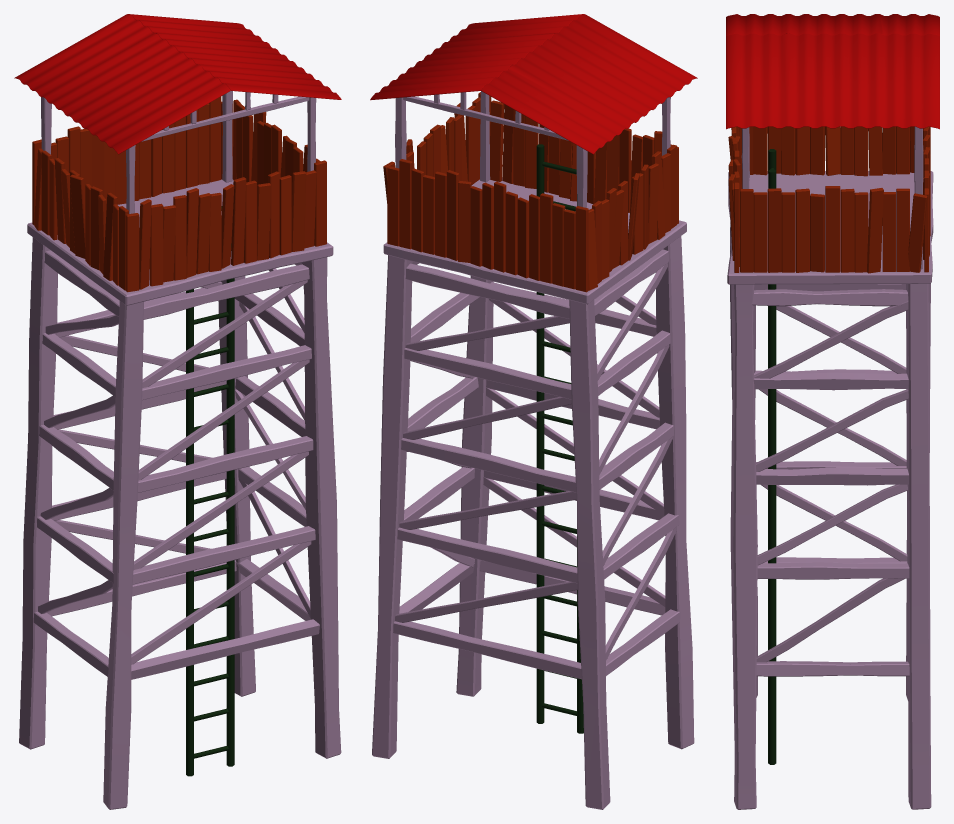
Rendered from TourDeGuet_02.fbx.
The picture shows the model from 3 angles, left to right: view 1: azimuth 30°, elevation 25°; view 2: azimuth 150°, elevation 25°; view 3: azimuth 270°, elevation 25°; orthographic projection. The views are drawn at different scales.
Parts seen in each view (by area): view 1: TourDeGuet_02; view 2: TourDeGuet_02; view 3: TourDeGuet_02.
Part boxes in pixels (<box>): TourDeGuet_02: <box>14,14,341,809</box>; TourDeGuet_02: <box>370,14,697,809</box>; TourDeGuet_02: <box>726,14,939,809</box>.
Size of the model in its own units: 336 by 967 by 261.
